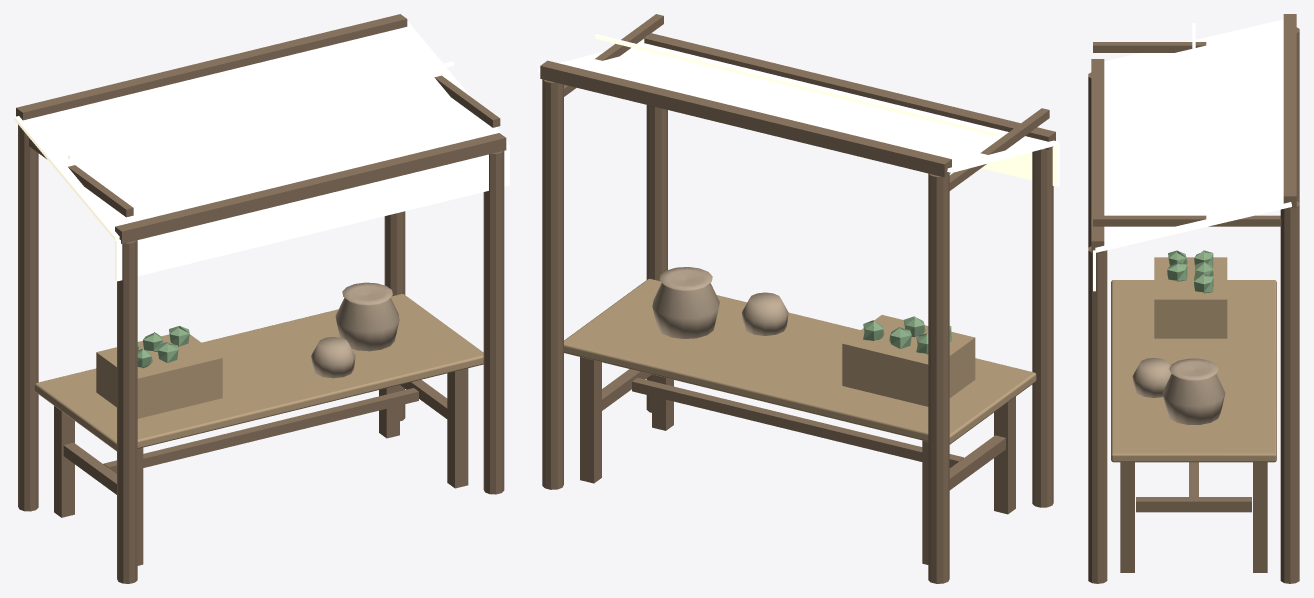
File: korean-hanok-village-and-street-market-stall-with-awni-064ed223.glb
3 views of the same model, side by side, from view 1: azimuth 30°, elevation 25°; view 2: azimuth 150°, elevation 25°; view 3: azimuth 270°, elevation 25° (orthographic). The views are drawn at different scales.
Visible parts, largest first — view 1: market-stall-with-awning; view 2: market-stall-with-awning; view 3: market-stall-with-awning.
Part boxes in pixels (x1,y1,x2,y2): market-stall-with-awning: [14, 14, 509, 583]; market-stall-with-awning: [538, 14, 1059, 583]; market-stall-with-awning: [1088, 14, 1299, 583].
Bounding box in the file's own units: 2.66 × 2.58 × 1.27.
